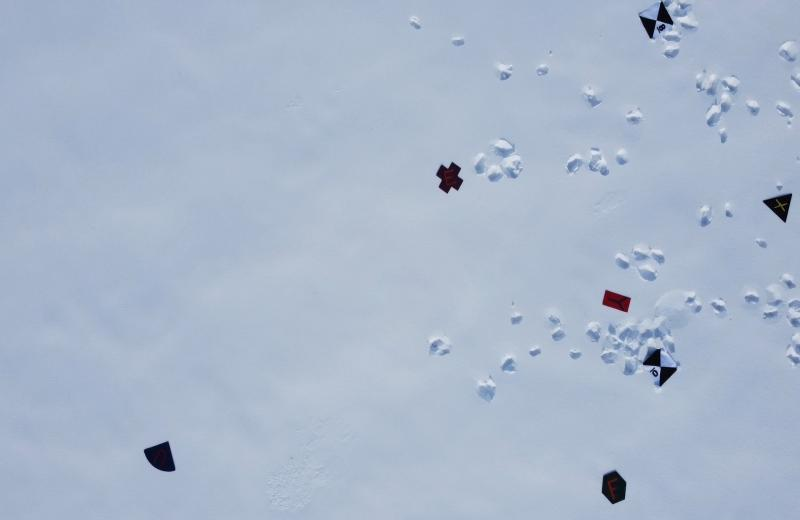Cross: (434, 158, 466, 199)
Hexagon: (600, 470, 628, 506)
Quarter Circle: (142, 439, 177, 478)
Rectangle: (601, 286, 632, 320)
Triangle: (762, 192, 795, 224)
